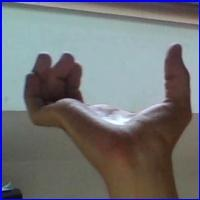B: (13, 40, 191, 174)
